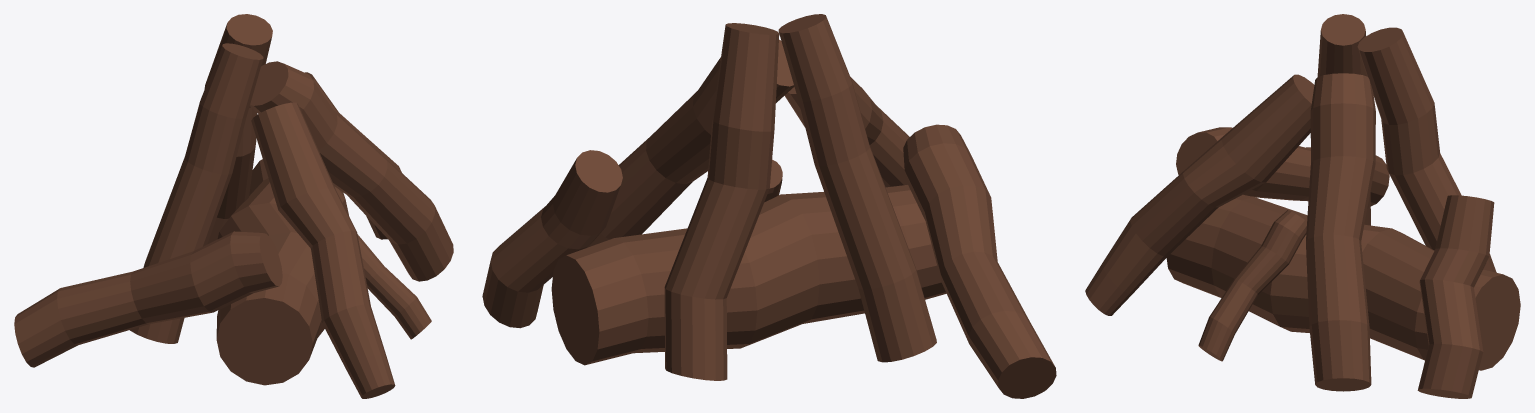
The model's file is rondin feu de camp.fbx.
3 views of the same model, side by side, from view 1: azimuth 30°, elevation 25°; view 2: azimuth 150°, elevation 25°; view 3: azimuth 270°, elevation 25° (orthographic). The views are drawn at different scales.
Parts seen in each view (by area): view 1: rondin de bois 2.002, rondin de bois 5, rondin de bois 2, rondin de bois 4, rondin de bois 1, rondin de bois 3, rondin de bois 2.001, rondin de bois 3.001; view 2: rondin de bois 4, rondin de bois 3, rondin de bois 1, rondin de bois 2.002, rondin de bois 3.001, rondin de bois 2, rondin de bois 5; view 3: rondin de bois 4, rondin de bois 2, rondin de bois 5, rondin de bois 3.001, rondin de bois 3, rondin de bois 2.001, rondin de bois 2.002, rondin de bois 1.
Part boxes in pixels (bbox=[...]): rondin de bois 2.002: bbox=[14, 231, 282, 367]; rondin de bois 5: bbox=[251, 102, 395, 398]; rondin de bois 2: bbox=[250, 61, 453, 281]; rondin de bois 4: bbox=[216, 159, 348, 385]; rondin de bois 1: bbox=[130, 43, 263, 343]; rondin de bois 3: bbox=[204, 14, 272, 244]; rondin de bois 2.001: bbox=[357, 234, 431, 339]; rondin de bois 3.001: bbox=[305, 72, 401, 239]; rondin de bois 4: bbox=[551, 185, 946, 365]; rondin de bois 3: bbox=[664, 23, 779, 380]; rondin de bois 1: bbox=[778, 14, 936, 362]; rondin de bois 2.002: bbox=[903, 124, 1056, 398]; rondin de bois 3.001: bbox=[482, 150, 622, 328]; rondin de bois 2: bbox=[587, 39, 794, 247]; rondin de bois 5: bbox=[784, 77, 909, 187]; rondin de bois 4: bbox=[1166, 194, 1520, 370]; rondin de bois 2: bbox=[1306, 73, 1375, 391]; rondin de bois 5: bbox=[1085, 74, 1314, 315]; rondin de bois 3.001: bbox=[1417, 195, 1494, 398]; rondin de bois 3: bbox=[1357, 27, 1496, 272]; rondin de bois 2.001: bbox=[1198, 210, 1306, 361]; rondin de bois 2.002: bbox=[1176, 127, 1389, 206]; rondin de bois 1: bbox=[1317, 14, 1370, 225].
Bounding box in the file's own units: 116 × 71.19 × 95.76.
